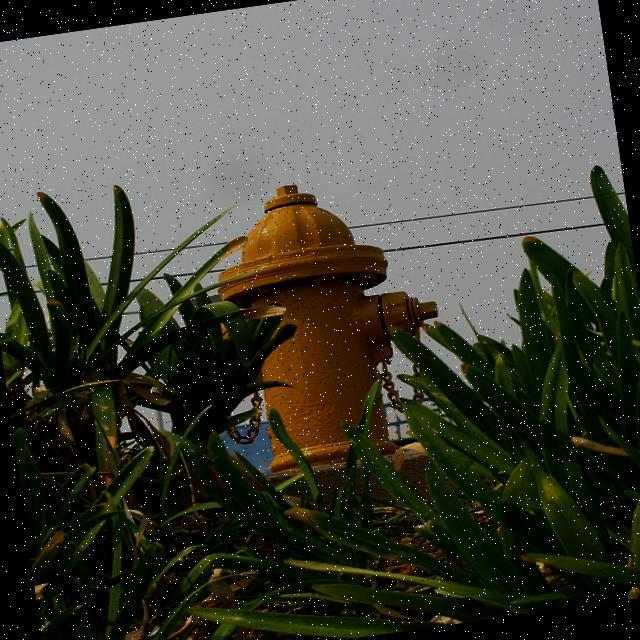fire_hydrant: (191, 166, 457, 484)
